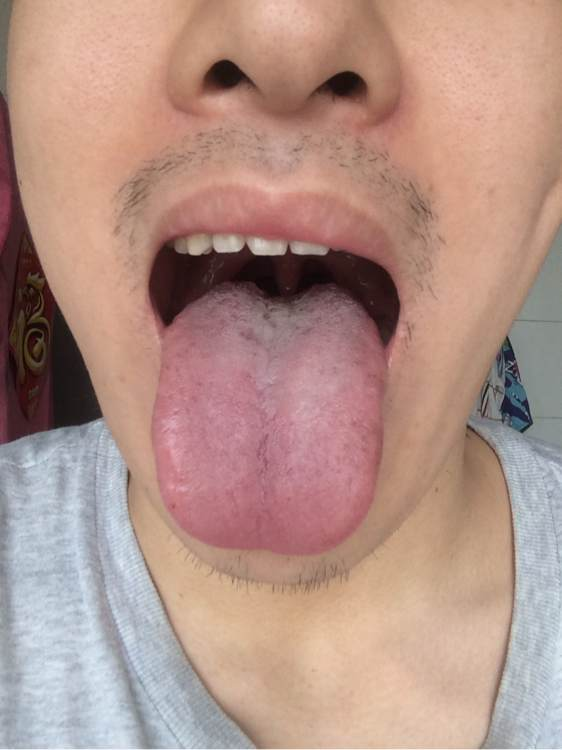baitaishe: (151, 280, 388, 555)
liewenshe: (256, 433, 271, 480)
shenquao: (238, 280, 328, 317)
